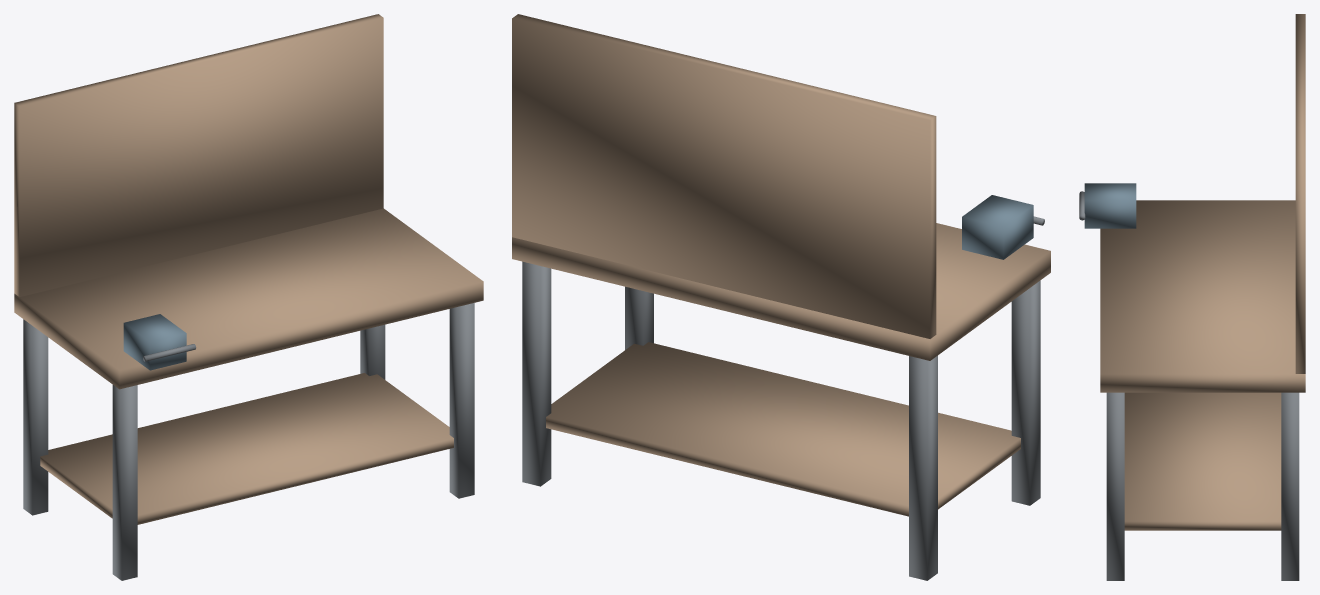
File: workbench.glb
The picture shows the model from 3 angles, left to right: view 1: azimuth 30°, elevation 25°; view 2: azimuth 150°, elevation 25°; view 3: azimuth 270°, elevation 25°; orthographic projection. The views are drawn at different scales.
Visible parts, largest first — view 1: Workbench; view 2: Workbench; view 3: Workbench.
Part boxes in pixels (<box>): Workbench: <box>14,14,483,580</box>; Workbench: <box>512,14,1050,580</box>; Workbench: <box>1079,14,1305,580</box>.
Size of the model in its own units: 1.6 by 1.7 by 0.882.
